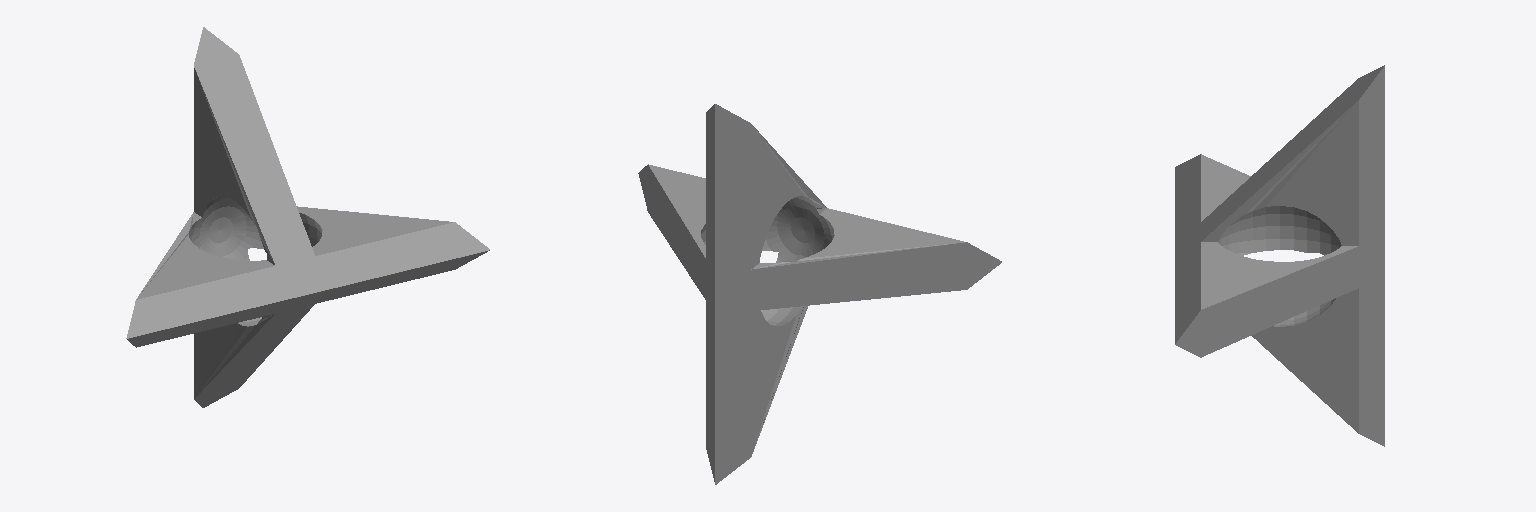
Rendered from Abstract.obj.
3 views of the same model, side by side, from view 1: azimuth 30°, elevation 25°; view 2: azimuth 150°, elevation 25°; view 3: azimuth 270°, elevation 25° (orthographic).
Parts seen in each view (by area): view 1: Tetra7.001; view 2: Tetra7.001; view 3: Tetra7.001.
Boxes of the visible parts, x1=… form: Tetra7.001: x1=126, y1=27, x2=489, y2=407; Tetra7.001: x1=638, y1=104, x2=1001, y2=484; Tetra7.001: x1=1175, y1=65, x2=1384, y2=446.
Size of the model in its own units: 3.99 by 3.99 by 1.99.